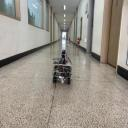cart: (52, 61, 72, 85)
